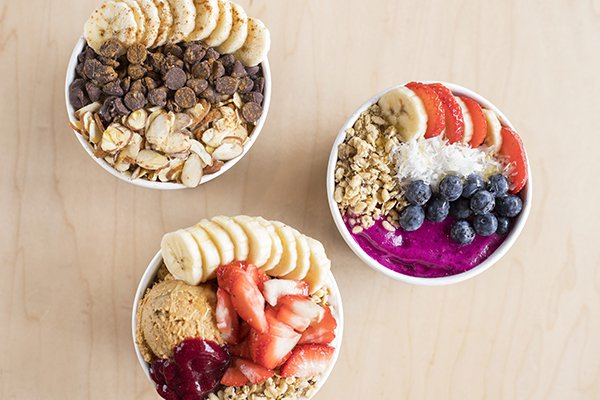sushi: (326, 80, 534, 287), (64, 0, 273, 192), (131, 214, 343, 397)
